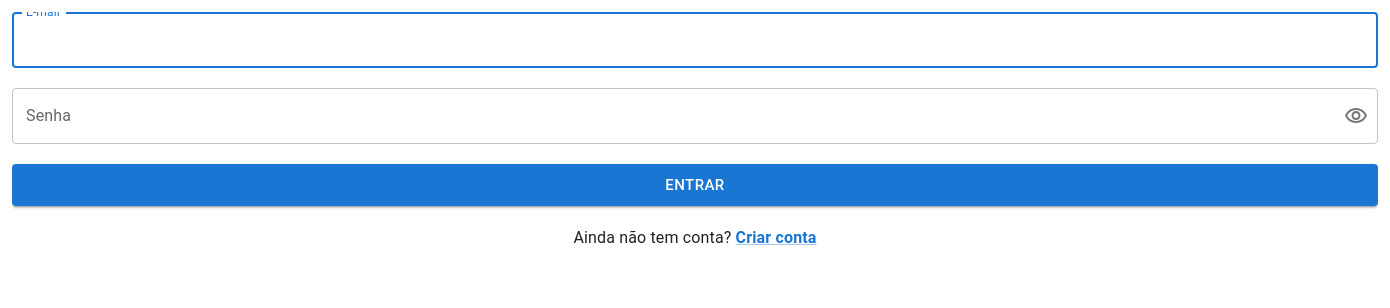
it: LoginForm › valida os campos antes de enviar
Step 1. Type "inválido" into the field labelled "E-mail" → (695, 40), box [12, 12, 1378, 68]
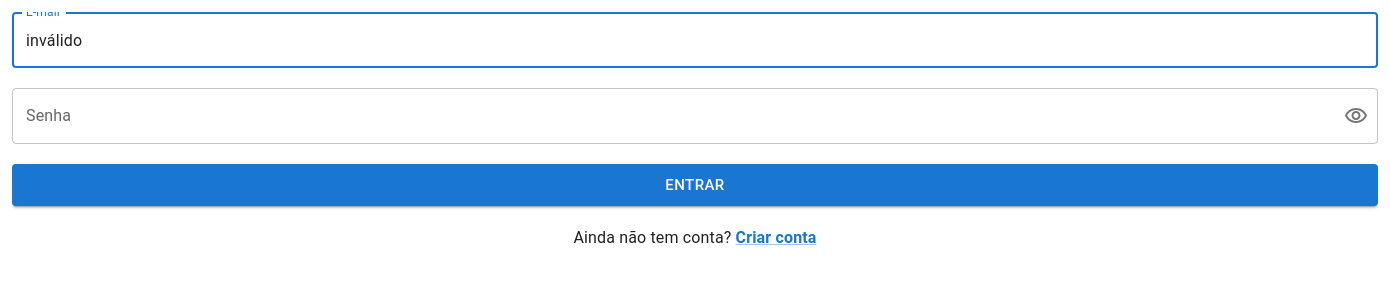
Step 2. Type "curta" into the password field labelled "Senha" → (670, 116), box [12, 88, 1328, 144]
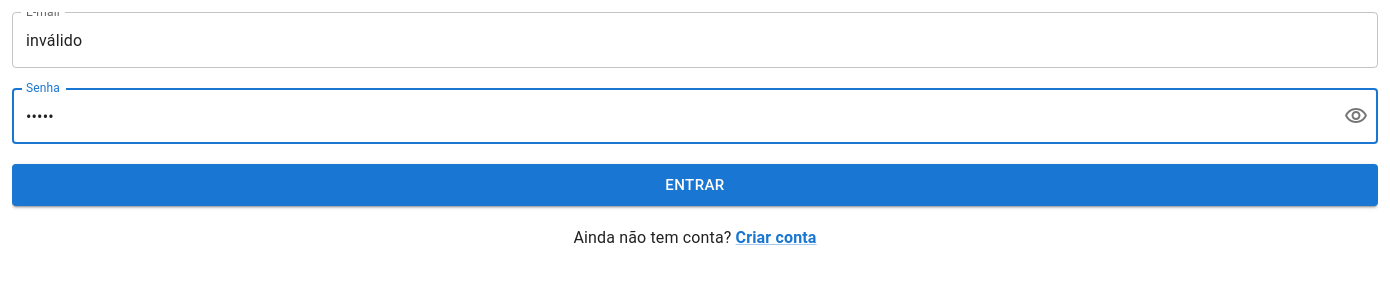
Step 3. Click the button "Entrar" → (695, 185), box [12, 164, 1378, 206]
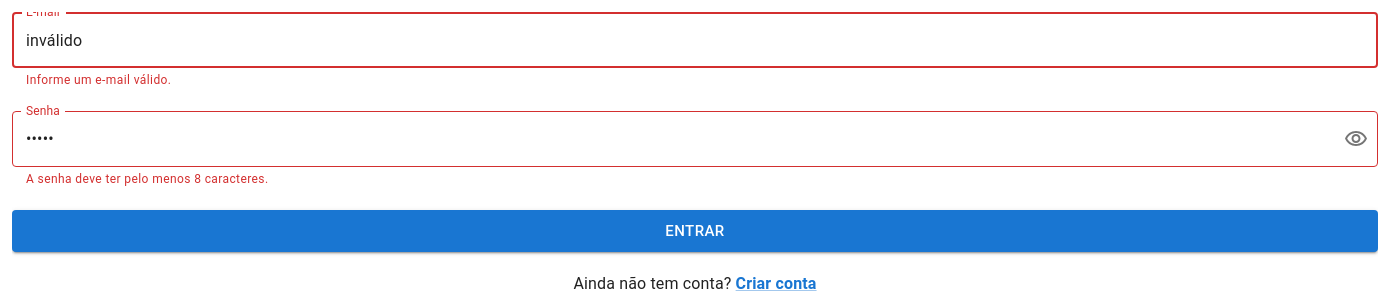
Now the text "Informe um e-mail válido." is shown, box [26, 73, 171, 87]
Now the text "A senha deve ter pelo menos 8 caracteres." is shown, box [26, 172, 268, 186]
